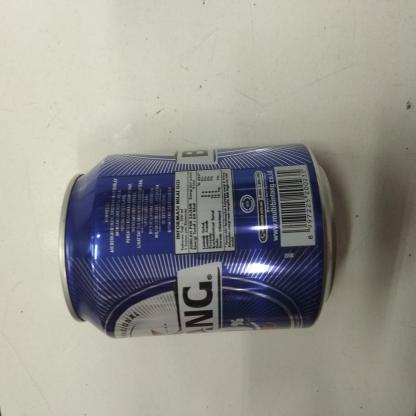can: (54, 134, 336, 342)
